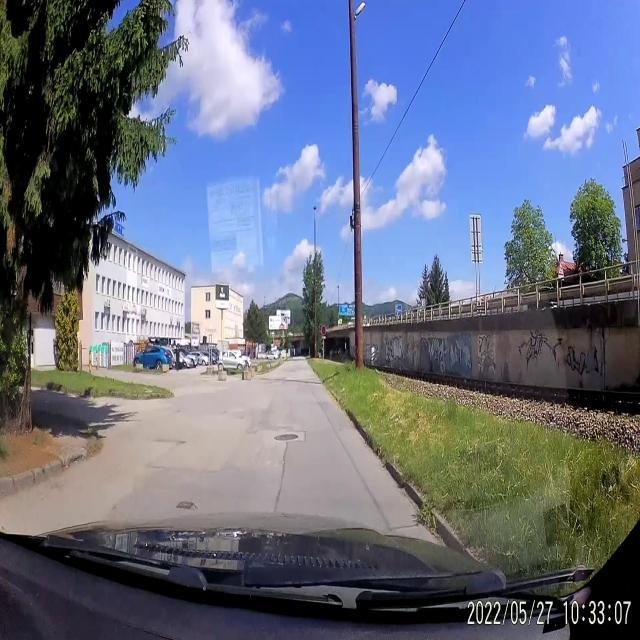Manhole: (274, 429, 300, 446)
Pothole: (173, 494, 198, 514)
